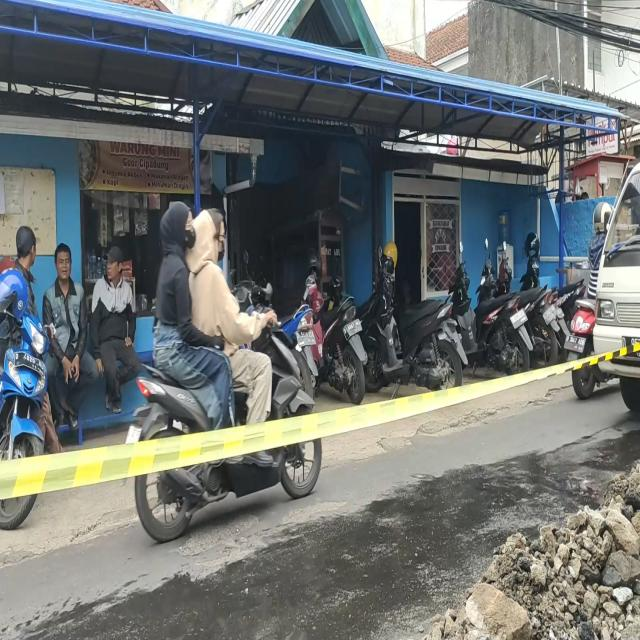no-helmet: (196, 208, 229, 259), (162, 201, 188, 250)
